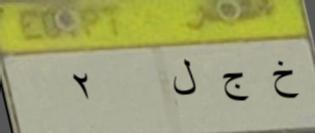2: (69, 70, 95, 107)
jeem: (218, 69, 252, 105)
khaa: (269, 56, 300, 106)
laam: (168, 57, 199, 97)
